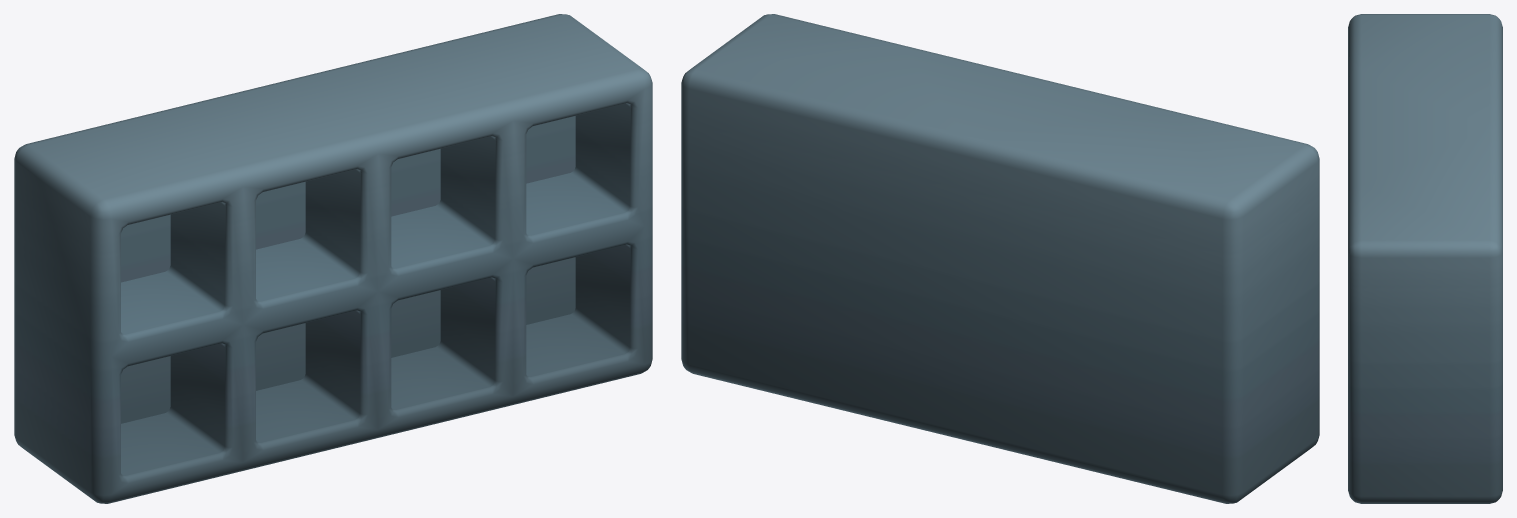
The model's file is Shelving_04.glb.
The picture shows the model from 3 angles, left to right: view 1: azimuth 30°, elevation 25°; view 2: azimuth 150°, elevation 25°; view 3: azimuth 270°, elevation 25°; orthographic projection. The views are drawn at different scales.
Visible parts, largest first — view 1: Shelving_04; view 2: Shelving_04; view 3: Shelving_04.
Part boxes in pixels (x1,y1,x2,y2): Shelving_04: [14, 14, 652, 503]; Shelving_04: [681, 14, 1319, 503]; Shelving_04: [1348, 14, 1502, 503].
Bounding box in the file's own units: 1.44 × 0.7459 × 0.3987.
1 material, 1 textured.
